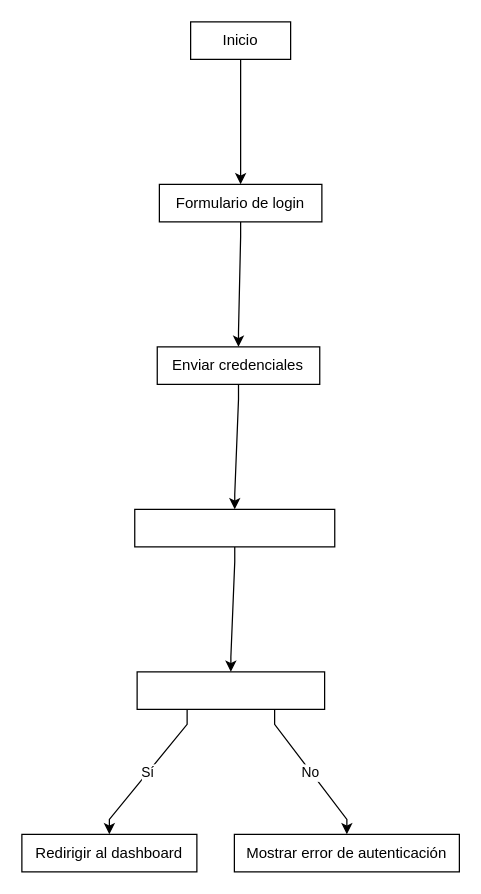
Image size: 481x894. Some labels were removed from this diagram. The box of each missing label's shape, as (x1, y1, x2, y2) in pixels:
Credenciales correctas: (136, 671, 325, 709)
Verificar en base de datos: (134, 508, 335, 547)
